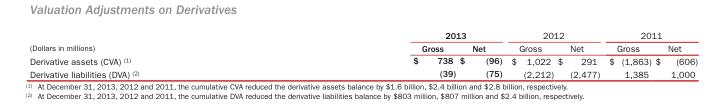table: (28, 29, 697, 78)
table column: (28, 29, 275, 78), (275, 29, 456, 78), (456, 29, 505, 78), (505, 29, 554, 78), (554, 29, 603, 78), (603, 29, 652, 78), (652, 29, 697, 78)
table column header: (28, 29, 697, 54)
table row: (28, 41, 697, 54), (28, 29, 697, 41), (28, 54, 697, 66), (28, 66, 697, 78)
table spanning cell: (28, 29, 275, 54), (275, 29, 505, 41), (505, 29, 603, 41), (603, 29, 697, 41)
